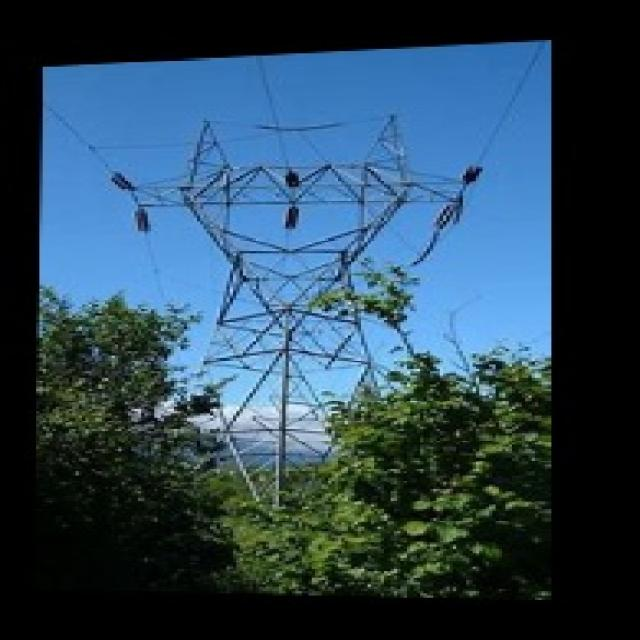utility poles: (303, 253, 487, 437), (126, 293, 255, 445)
